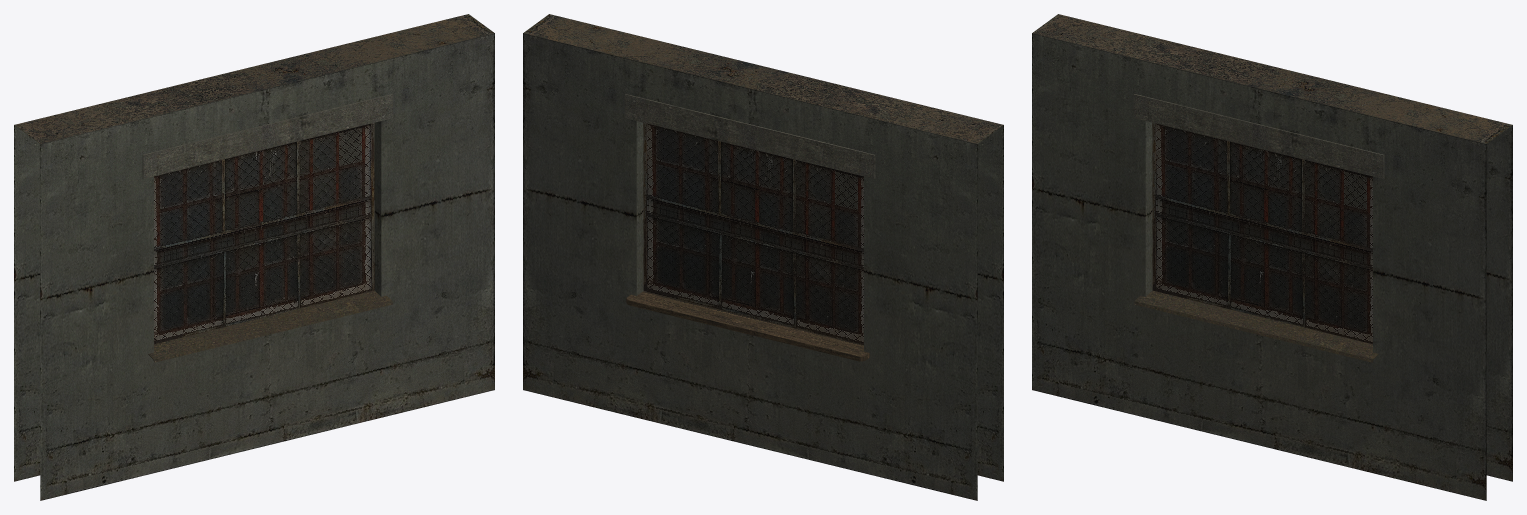
The model's file is window_rg_1.glb.
3 renders of one model, left to right at view 1: azimuth 30°, elevation 25°; view 2: azimuth 150°, elevation 25°; view 3: azimuth 330°, elevation 25°, orthographic.
Parts seen in each view (by area): view 1: window_rg_1; view 2: window_rg_1; view 3: window_rg_1.
Boxes of the visible parts, x1,y1,x2,y2 form: window_rg_1: (14,14,494,500); window_rg_1: (523,14,1003,500); window_rg_1: (1032,14,1512,500).
Size of the model in its own units: 4 by 3 by 0.595.
6 materials, 6 textured.
